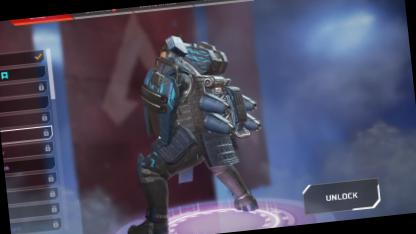Target: (133, 28, 270, 193)
